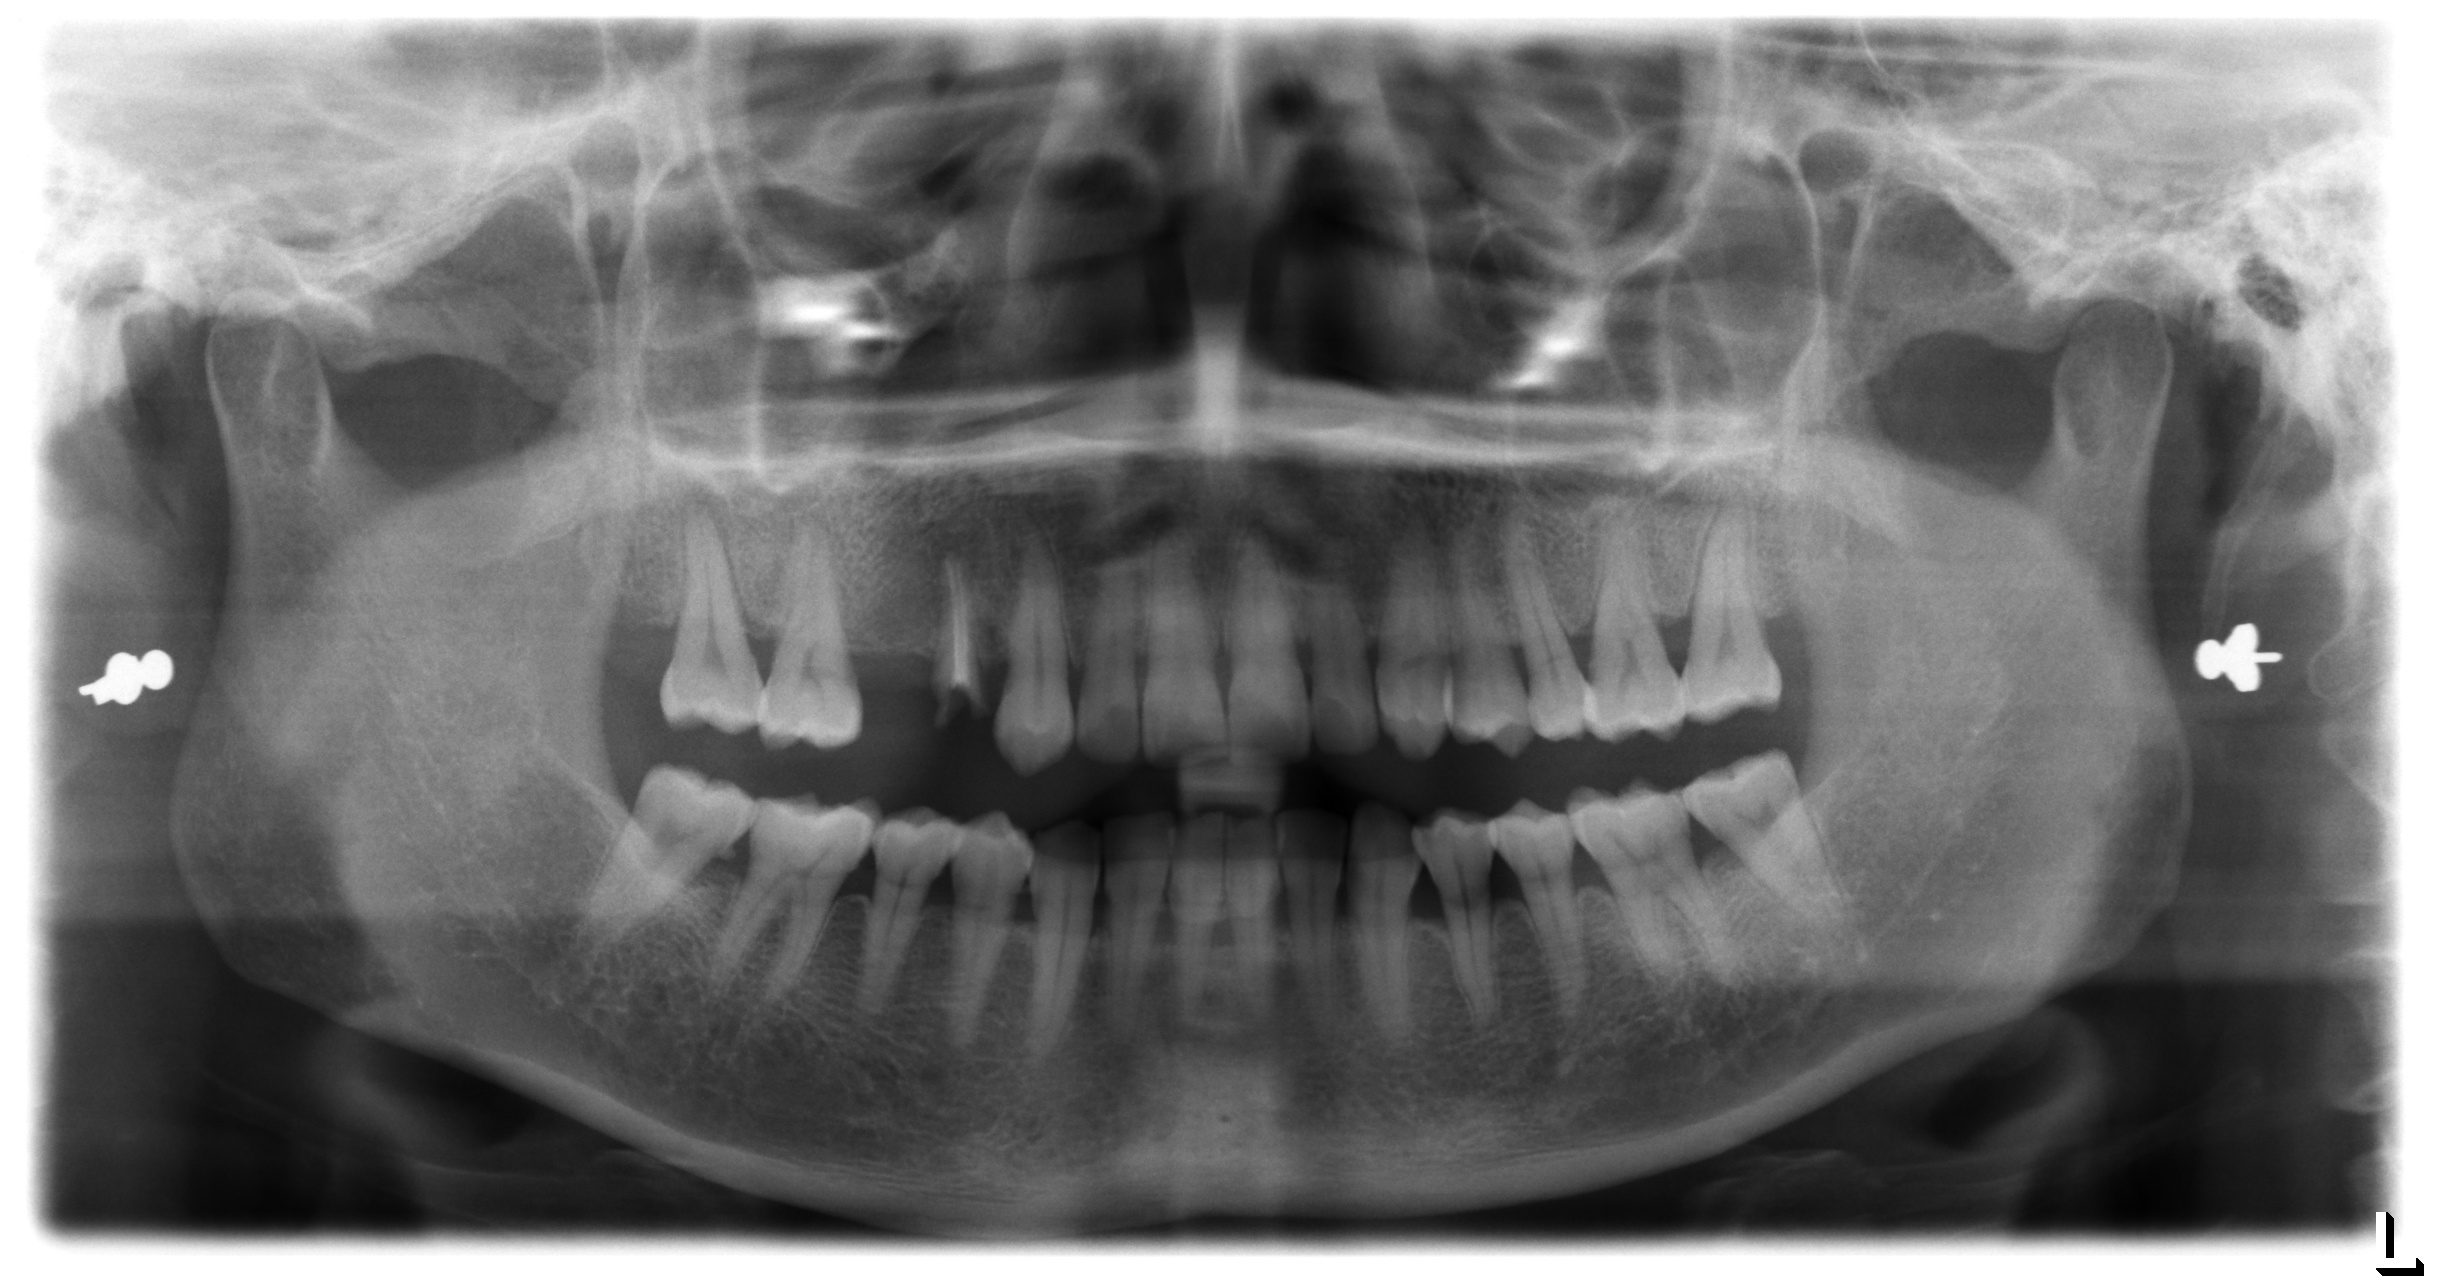Decay: (931, 547, 992, 730)
